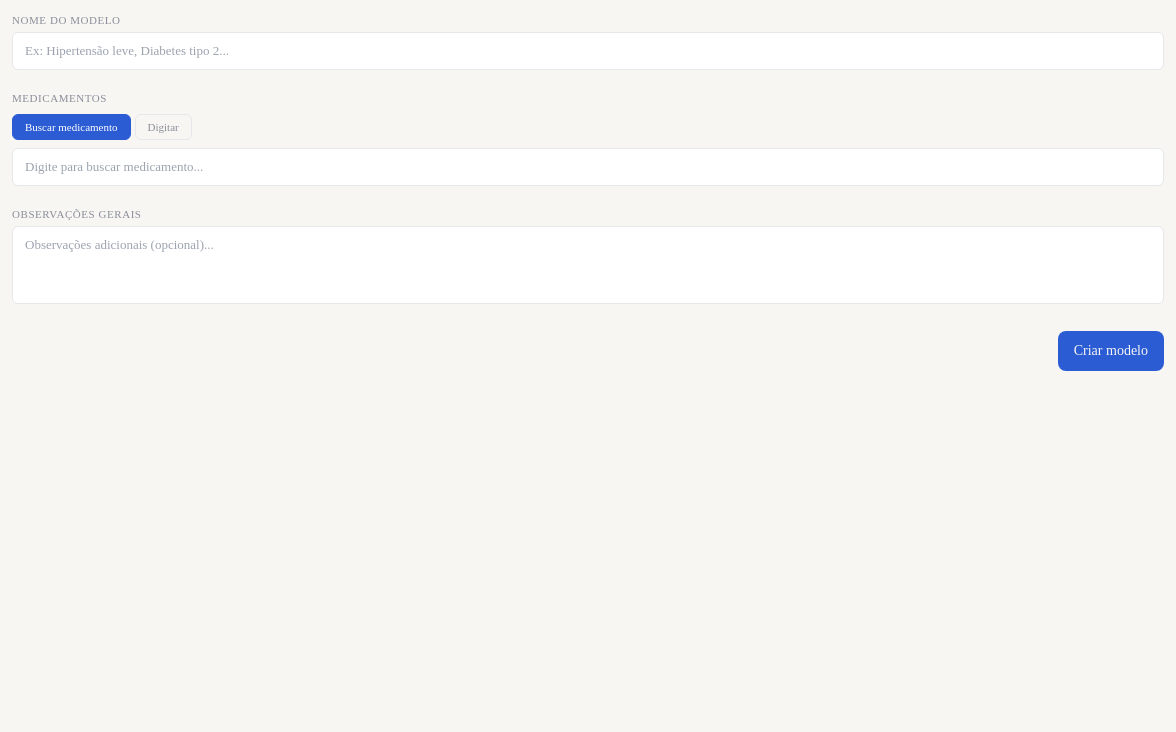
Test: PrescriptionTemplateForm (integration) › adds medication to list on click
Type "dipi" into the field with test id "prescription-template-form-search" at [588, 167], box [12,148,1164,186]
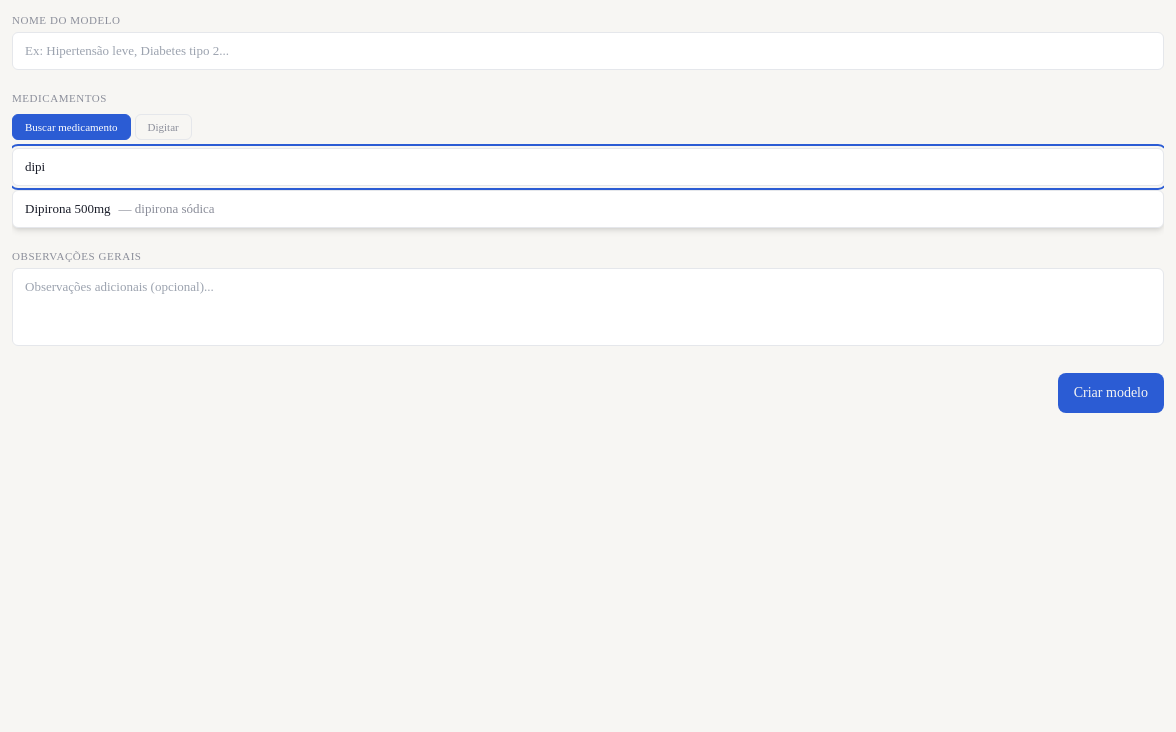
Check: the button with test id "prescription-template-form-search-result-med-uuid" is shown
Click the button with test id "prescription-template-form-search-result-med-uuid" at [68, 208], box [13,191,1163,227]
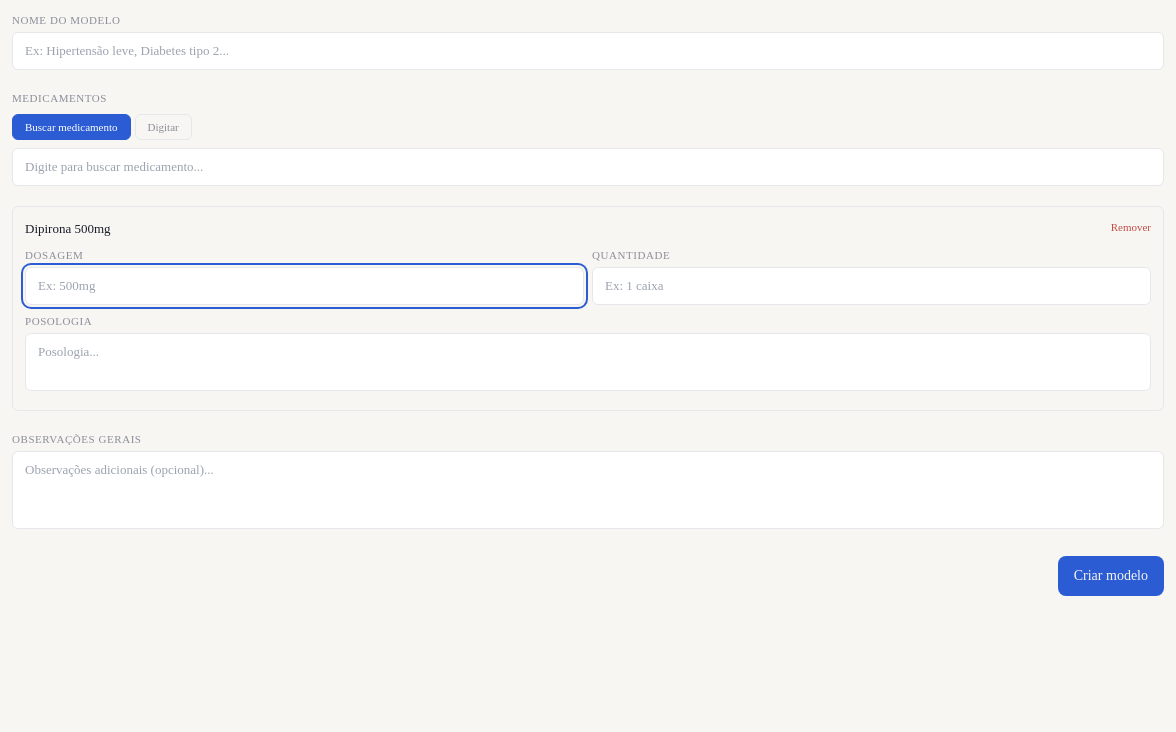
Check: the text with test id "prescription-template-form-item-name-0" reads "Dipirona 500mg", box [25,221,111,236]
Check: the list item with test id "prescription-template-form-item-0" is shown, box [12,206,1164,411]
Check: the field with test id "prescription-template-form-search" is empty, box [12,148,1164,186]
